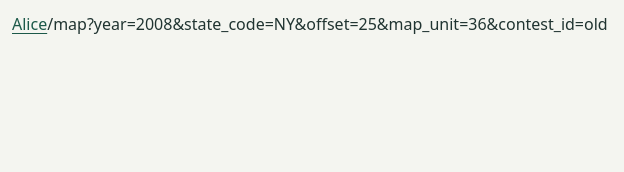
Test: candidate profile navigation › uses only the candidacy identifier when navigating from filtered results
Click the link "Alice" at (30, 24), box [12, 13, 47, 35]
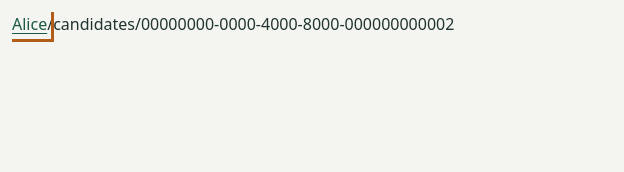
Expected: the text with test id "location" no longer shows "offset", [47, 13, 454, 35]
Expected: the text with test id "location" no longer shows "map_unit", [47, 13, 454, 35]
